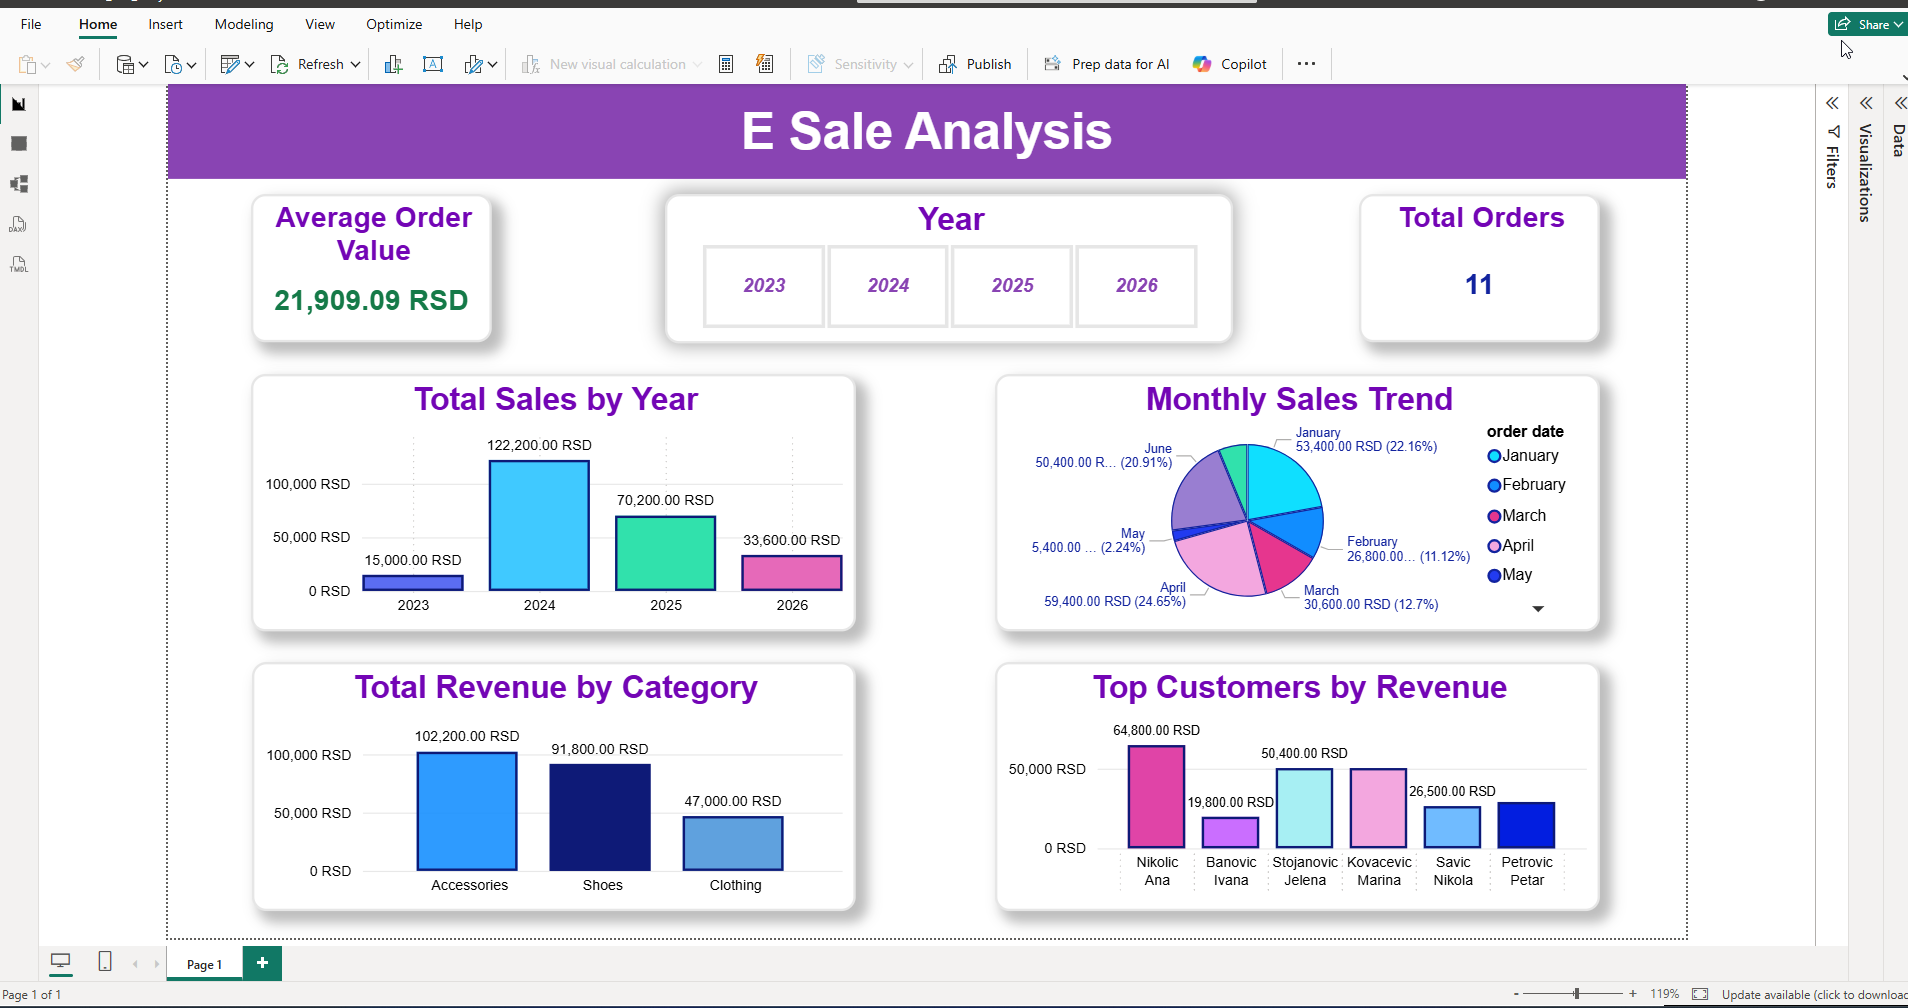

Layout of this report page (visuals, bound fields, positions):
{"tool":"powerbi","page":{"name":"Page 1","canvas":[1280,720],"ordinal":0},"visuals":[{"type":"slicer","title":"Year","fields":{"Values":["e_sale_analysis_final_data.order_date.Variation.Date Hierarchy.Year"]},"box":[419.2,92.6,478.8,125.6],"z":0},{"type":"textbox","box":[0,0,1280,80],"z":1000},{"type":"clusteredColumnChart","title":"Total Revenue by Category","fields":{"Category":["e_sale_analysis_final_data.category"],"Y":["Sum(e_sale_analysis_final_data.order_total)"]},"box":[71,487.3,508.7,210.1],"z":2000},{"type":"clusteredColumnChart","title":"Top Customers by Revenue","fields":{"Category":["e_sale_analysis_final_data.first_name","e_sale_analysis_final_data.last_name"],"Y":["Sum(e_sale_analysis_final_data.order_total)"]},"box":[697.4,487.3,509.7,210.1],"z":3000},{"type":"donutChart","title":"Monthly Sales Trend","fields":{"Y":["Sum(e_sale_analysis_final_data.order_total)"],"Category":["e_sale_analysis_final_data.order_date.Variation.Date Hierarchy.Month"]},"box":[697.4,244.1,509.7,216.9],"z":4000},{"type":"card","title":"Average Order Value","fields":{"Values":["e_sale_analysis_final_data.AOV"]},"box":[70,92.4,203.3,125.5],"z":5000},{"type":"card","title":"Total Orders","fields":{"Values":["e_sale_analysis_final_data.Total Orders"]},"box":[1003.8,92.4,203.3,125.5],"z":6000},{"type":"clusteredColumnChart","title":"Total Sales by Year","fields":{"Y":["Sum(e_sale_analysis_final_data.order_total)"],"Category":["e_sale_analysis_final_data.order_date.Variation.Date Hierarchy.Year"]},"box":[70,244.1,509.7,216.9],"z":7000}]}

Visuals, with their boxes on the page's 1280x720 design canvas (x1, y1, x2, y2). These are canvas units, not pixel positions in the 1908x1008 screenshot, which may show the page scaled, cropped or inside an application window:
"Year" slicer: l=419, t=93, r=898, b=218
textbox: l=0, t=0, r=1280, b=80
"Total Revenue by Category" clusteredColumnChart: l=71, t=487, r=580, b=697
"Top Customers by Revenue" clusteredColumnChart: l=697, t=487, r=1207, b=697
"Monthly Sales Trend" donutChart: l=697, t=244, r=1207, b=461
"Average Order Value" card: l=70, t=92, r=273, b=218
"Total Orders" card: l=1004, t=92, r=1207, b=218
"Total Sales by Year" clusteredColumnChart: l=70, t=244, r=580, b=461
